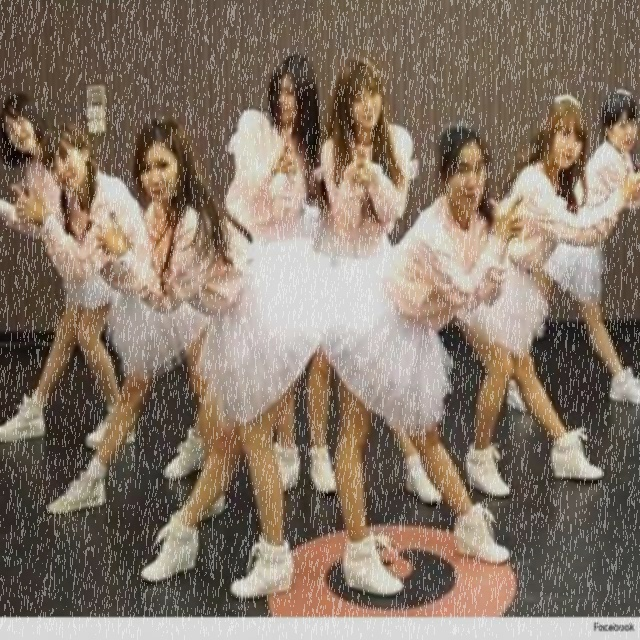pessoa: (81, 112, 332, 605), (305, 124, 527, 600), (6, 119, 231, 528), (451, 87, 639, 500), (301, 55, 451, 507), (0, 89, 137, 448), (502, 86, 640, 419), (224, 54, 322, 246)
